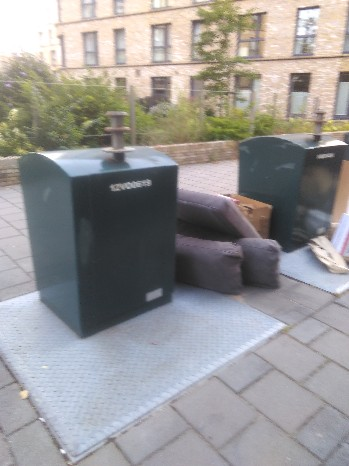Container: (12, 137, 170, 346), (244, 132, 322, 227)
Rest: (181, 185, 265, 290), (324, 197, 349, 276)
